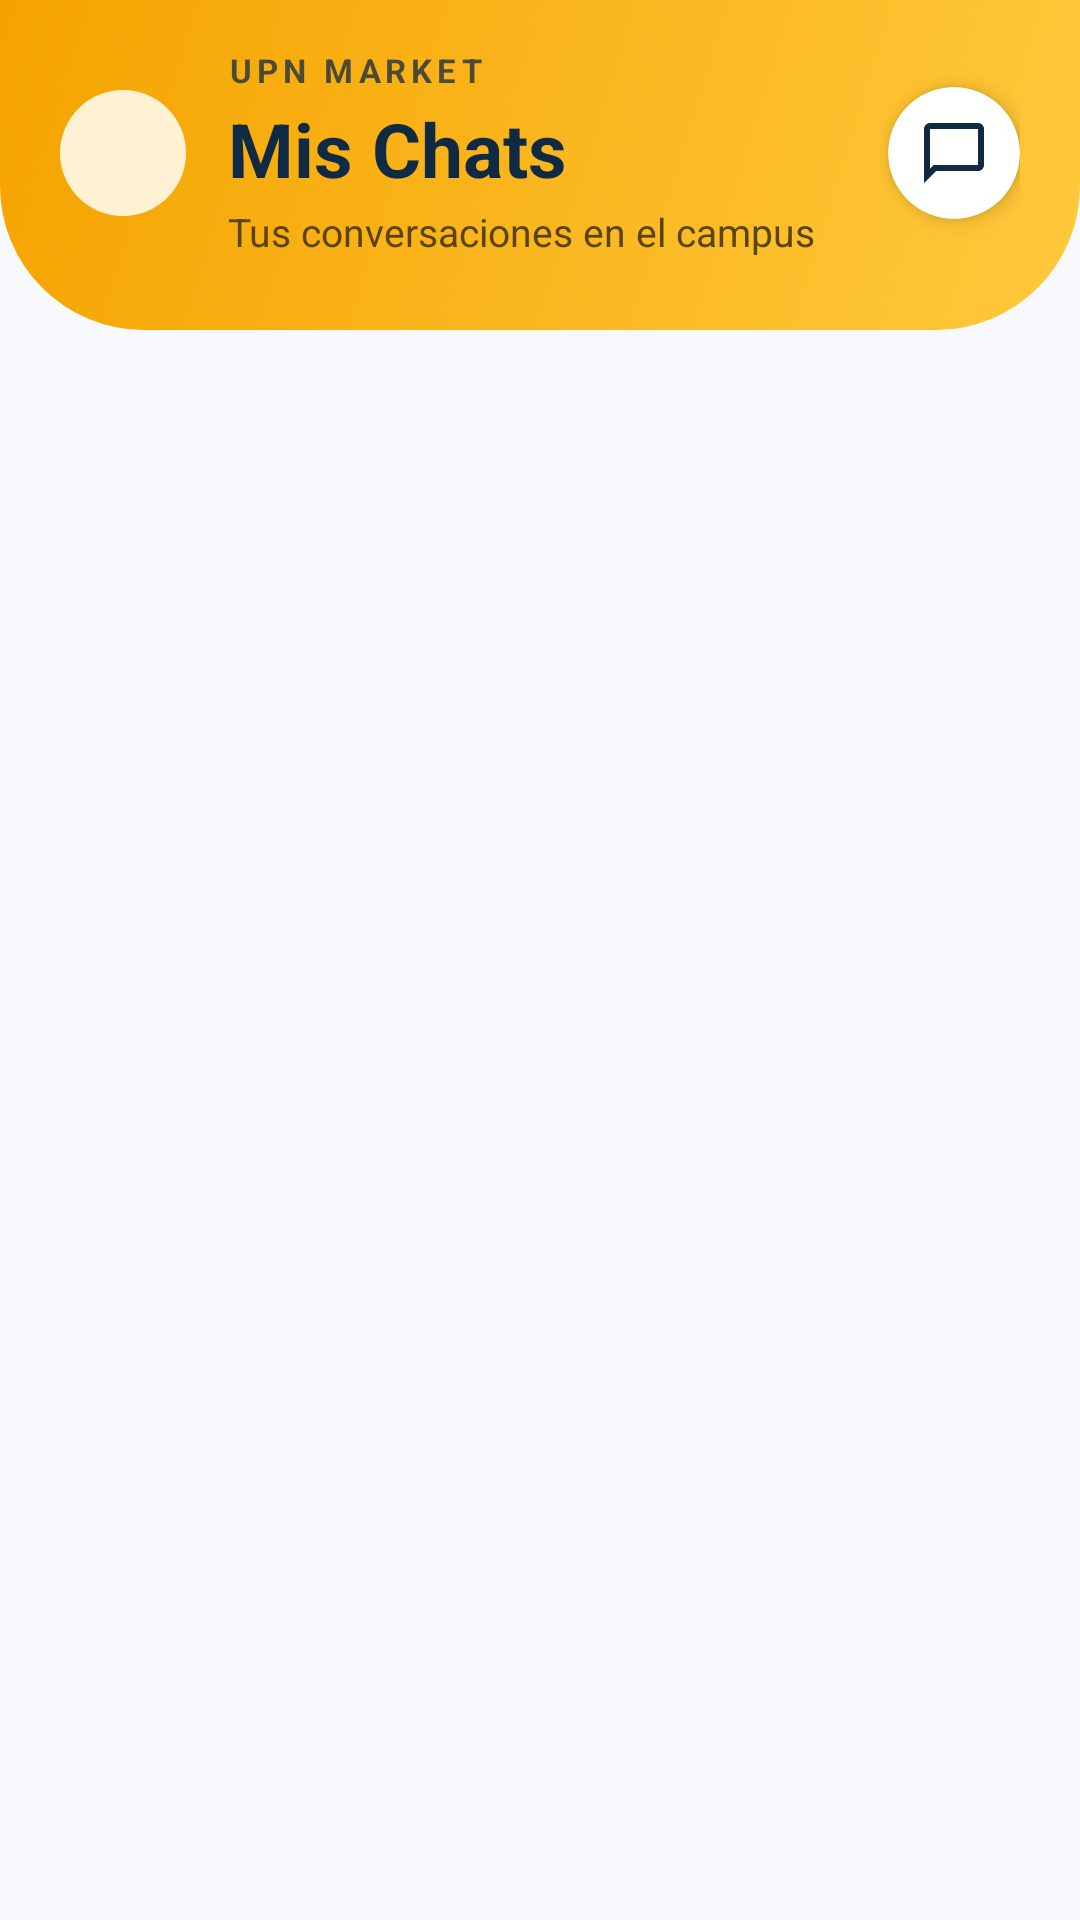

Icons on this 1080 x 1920 Android screen, each with its box as {"left": x1, "top": y1, "right": x2, "bottom": y2}:
Chats: {"left": 924, "top": 123, "right": 984, "bottom": 183}
